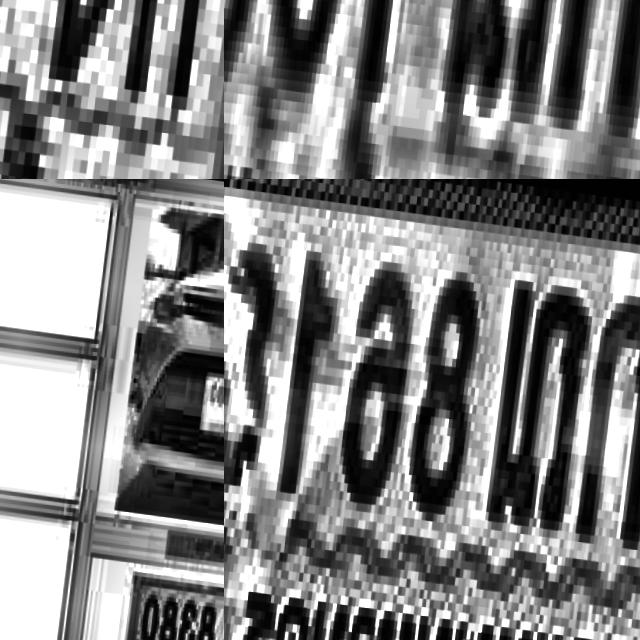license-plate: (224, 179, 640, 640), (224, 0, 640, 179), (0, 0, 224, 179), (114, 554, 224, 640), (179, 345, 224, 451)
